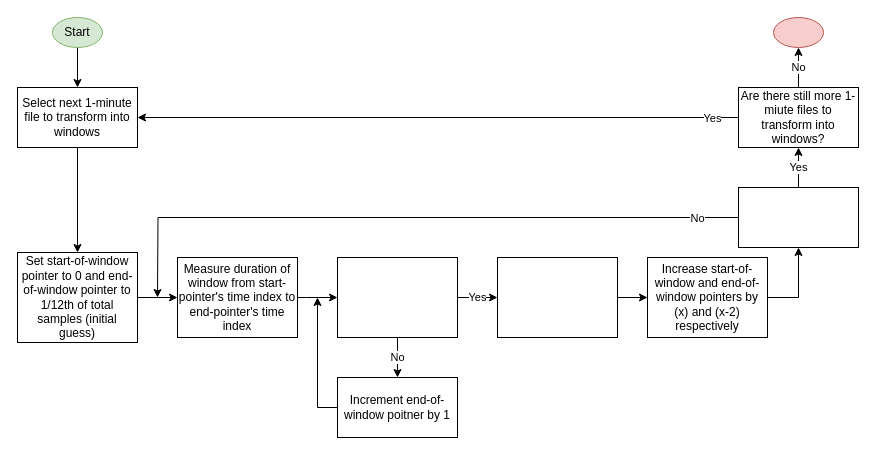
The diagram is 876 pixels wide and 455 high, and some of its shapes have lost their labels. Here are the shapes that lost their labels. From the top down, the centre of each, then its label:
At point (798, 32): "Done".
At point (798, 217): "Is end-of-window poitner past end-of-file?".
At point (397, 297): "Is window duration 5 seconds (within margin)?".
At point (557, 297): "Copy window (start pointer to end pointer) into a list of dataframes (windows)".
